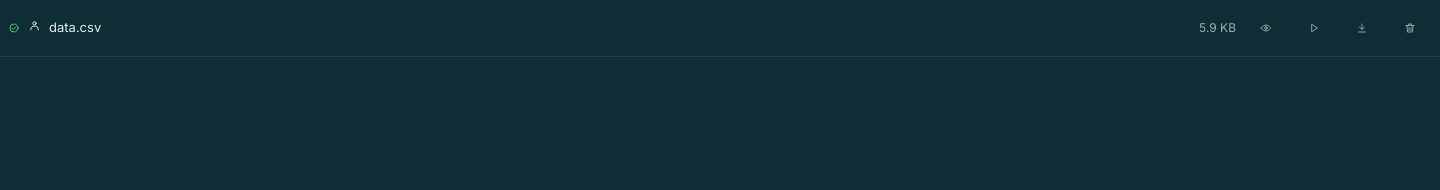
BlobRow structural self-disclosure (T-3) › HONESTY: ragged CSV rows surface a plain failure, never a guessed count
The width and height of the screenshot is (1440, 190).
Click the button named "preview data.csv": (1266, 28) [1244, 6, 1288, 50]
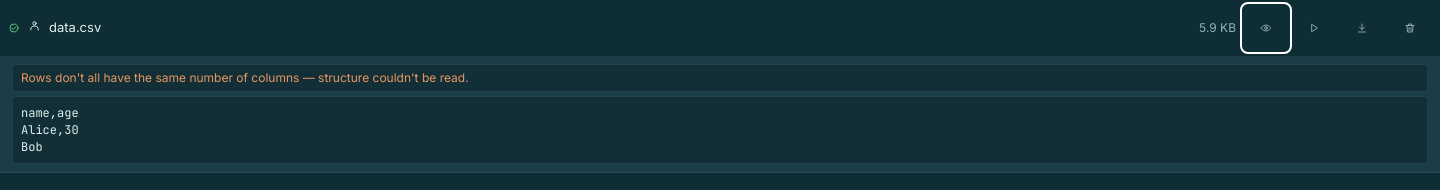
Check: the element with test id "blob-row-structure" does not show "0 rows", box [12, 64, 1428, 92]
Check: the element with test id "blob-row-structure" shows "couldn't be read", box [21, 70, 469, 85]
